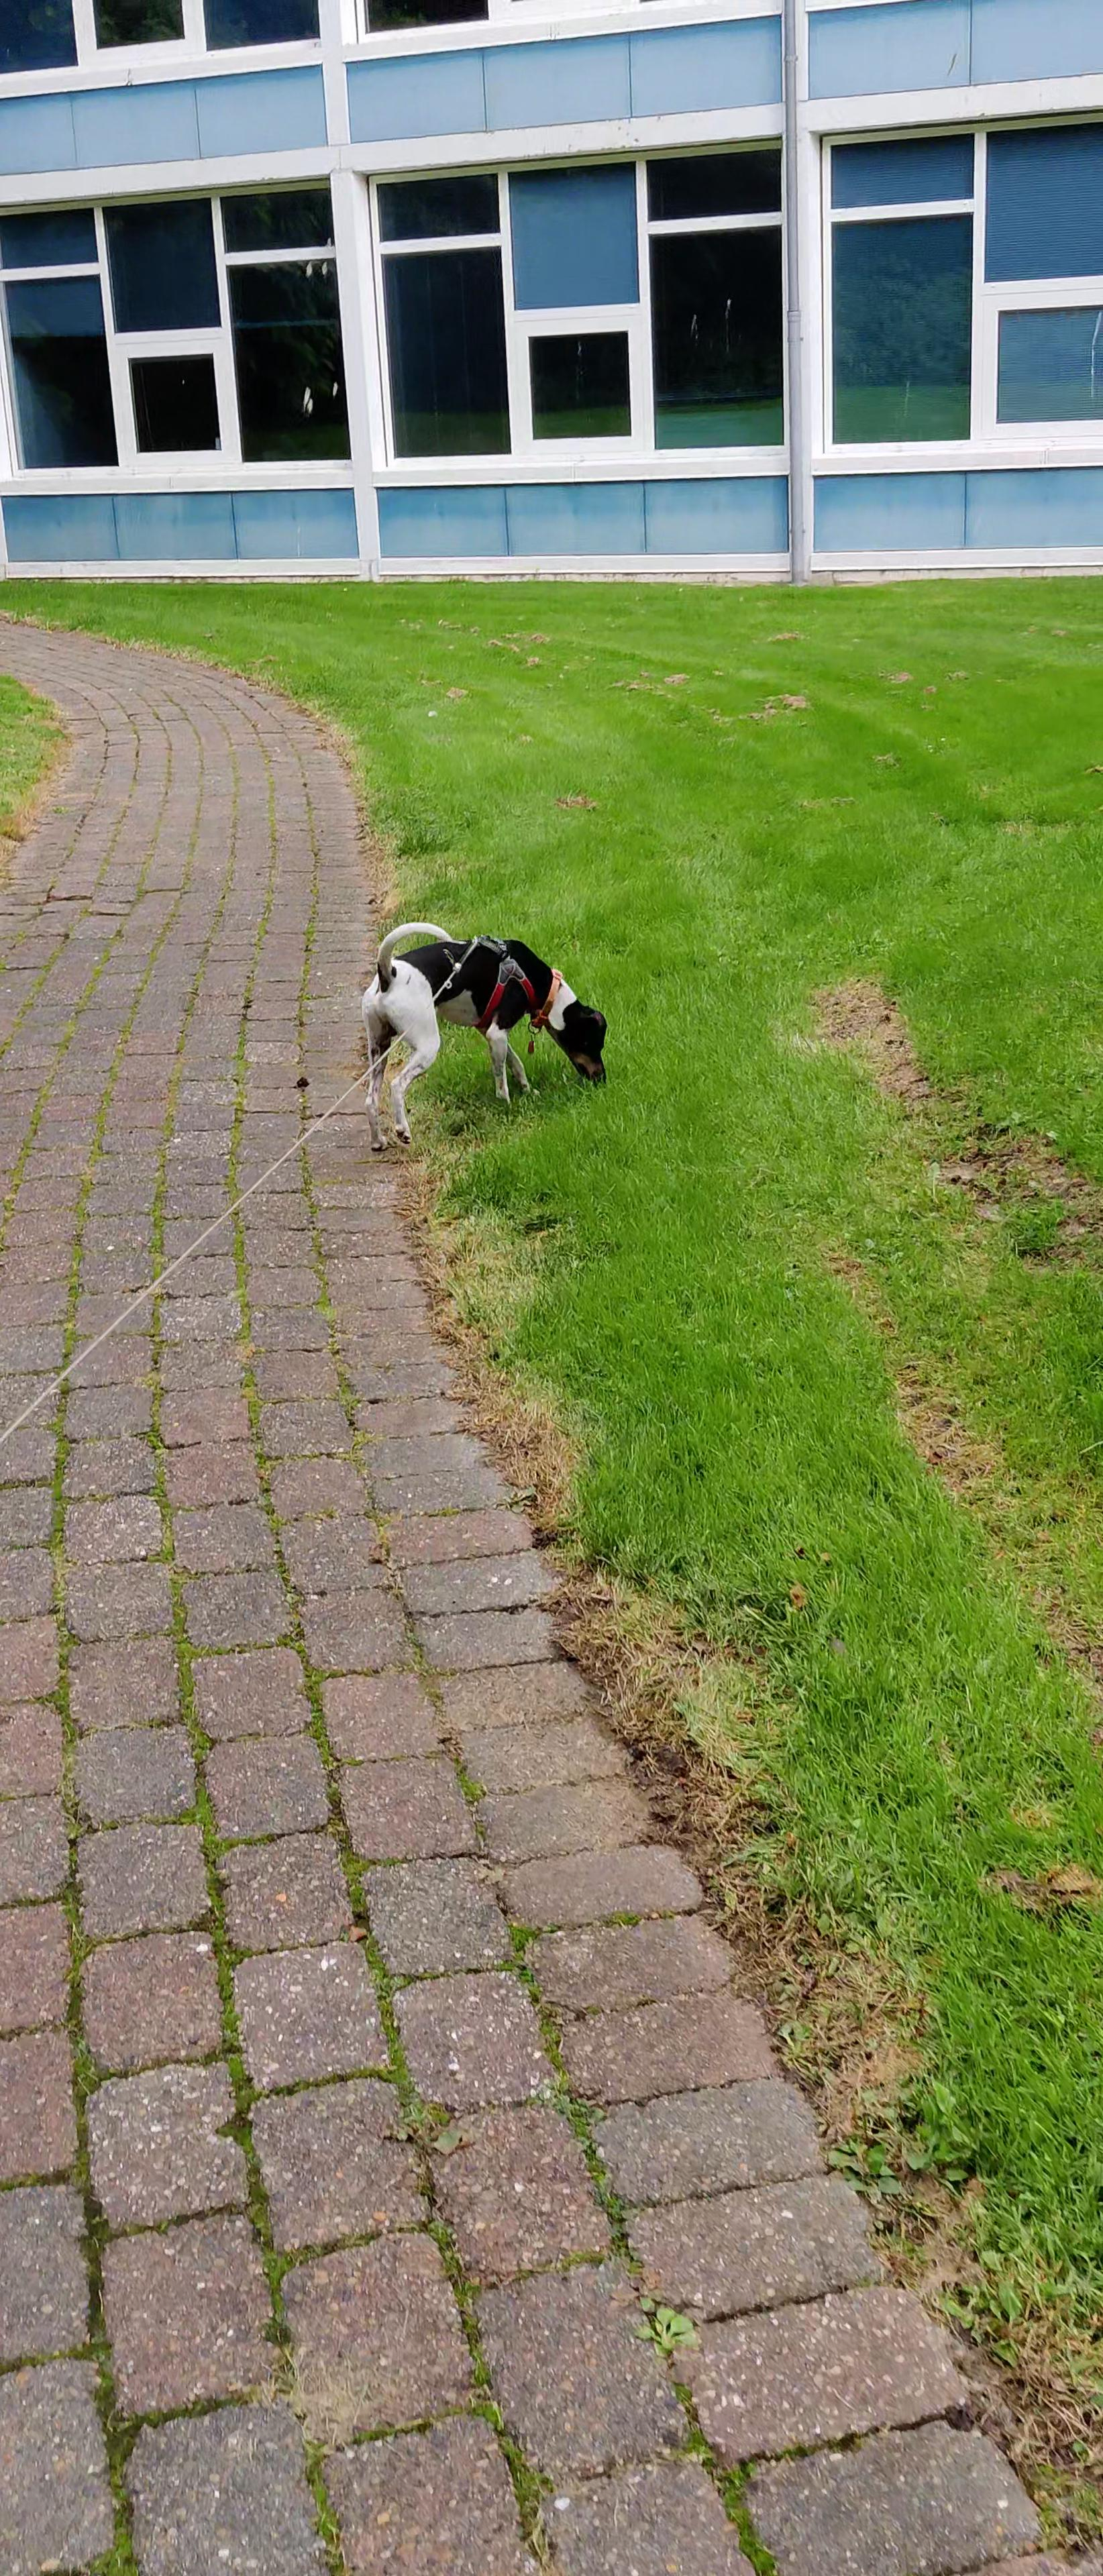Dog: (339, 895, 621, 1166)
